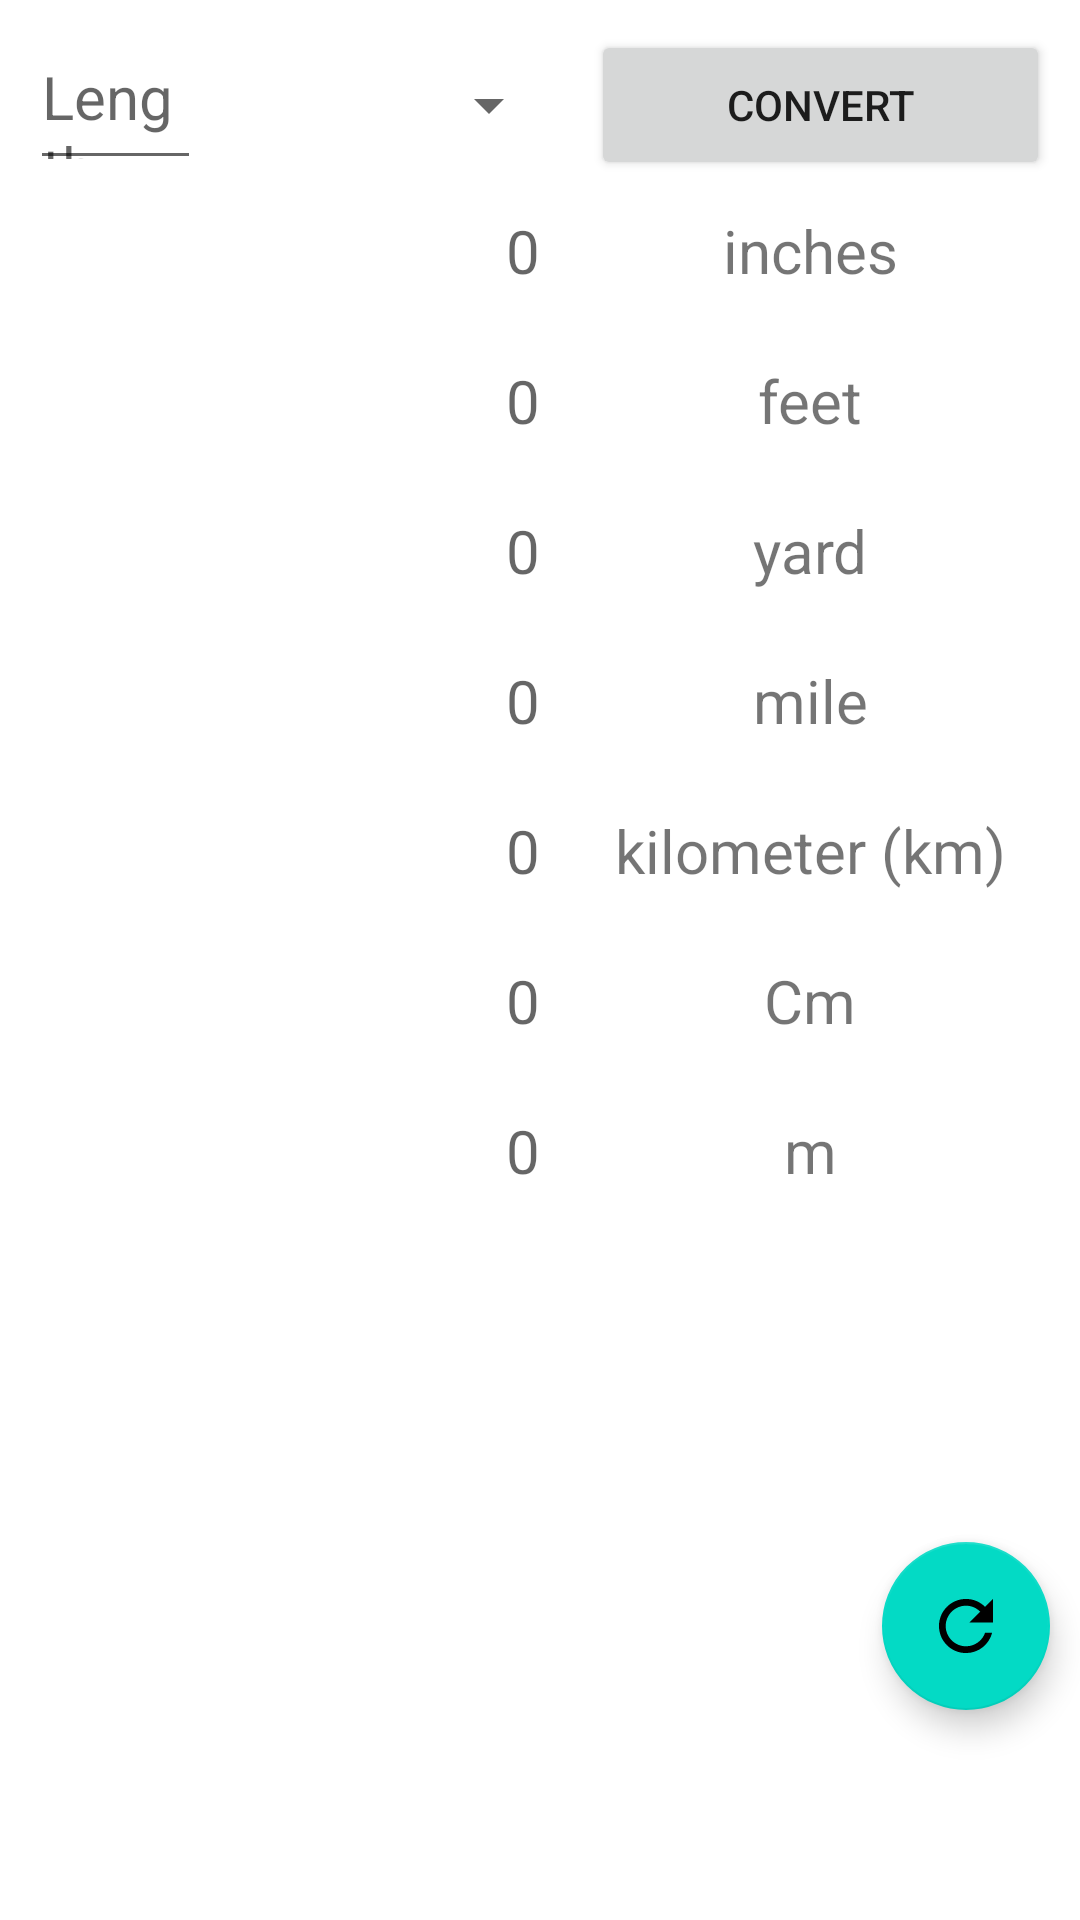

Point at icon controls on the screen. Image size 1080×1920, points as (x=x, y=y).
refresh: (x=966, y=1626)
